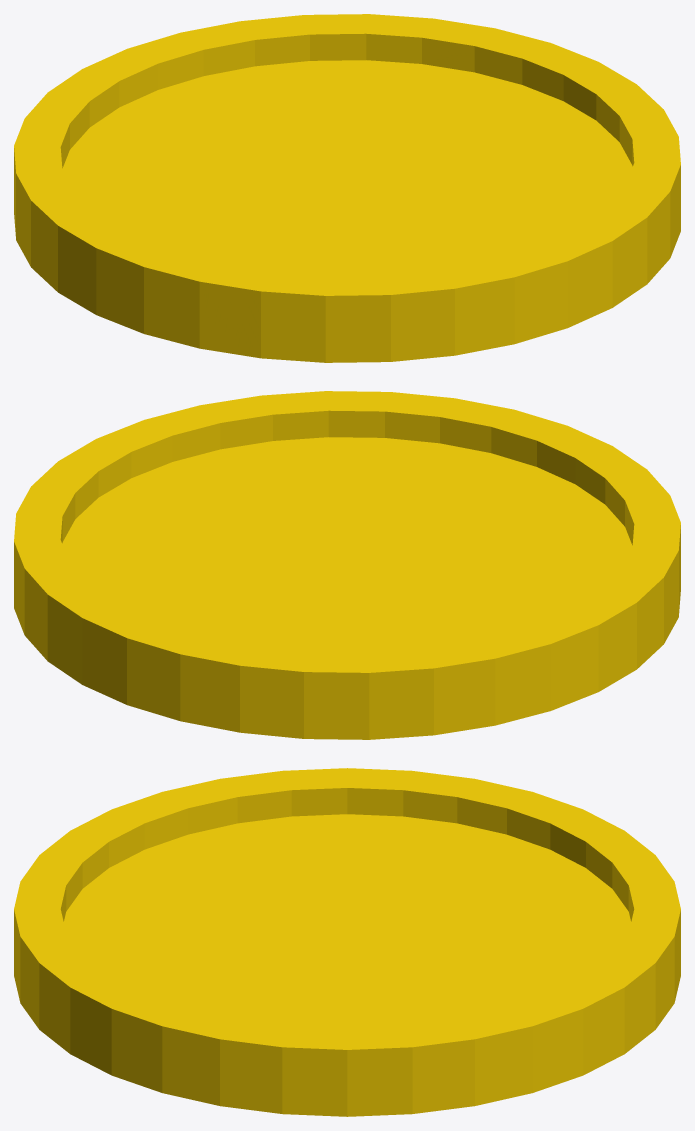
Rendered from NormalCoin.fbx.
3 views of the same model, one above another, from view 1: azimuth 30°, elevation 25°; view 2: azimuth 150°, elevation 25°; view 3: azimuth 270°, elevation 25° (orthographic).
Parts seen in each view (by area): view 1: Cylinder; view 2: Cylinder; view 3: Cylinder.
Boxes of the visible parts, x1,y1,x2,y2 form: Cylinder: (14,14,680,362); Cylinder: (14,391,680,739); Cylinder: (14,768,680,1116).
Size of the model in its own units: 200 by 22.11 by 200.
